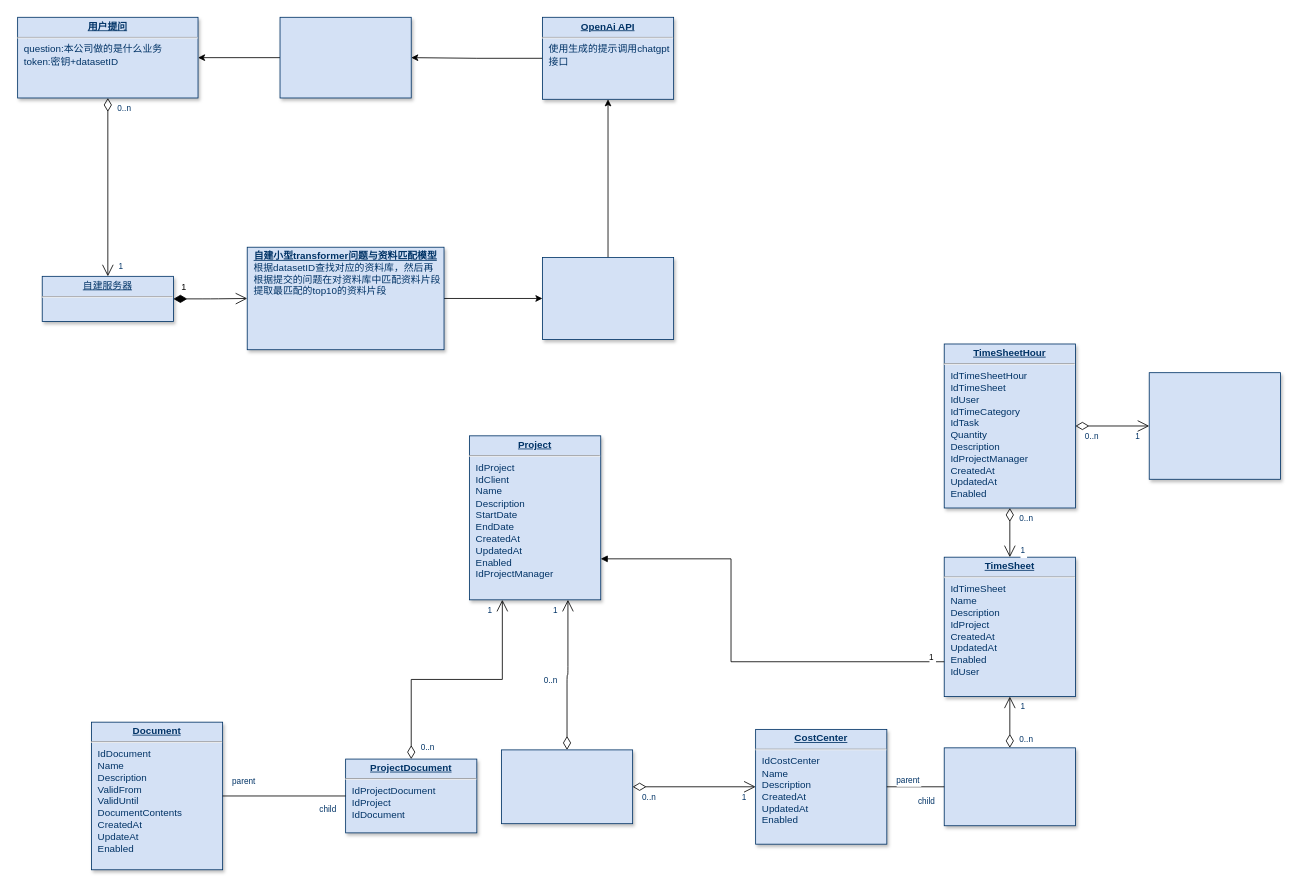
This 1300x891 diagram has some shape labels left out. Each missing label, with the centre of its shape:
ChatGpt提示生成器 根据匹配的资料与问题生成 提示: the point at 608,299
ProjectCostCenter IdProjectCostCenter IdProject IdCostCenter: the point at 567,787
TimeCategory IdTimeCategory Name Description CreatedAt UpdatedAt Enabled: the point at 1215,427
TimeSheetCostCenter IdTimeSheetCostCenter IdTimeSheet IdCostCenter: the point at 1010,787
获取chatgpt答案并返回用户: the point at 346,58
